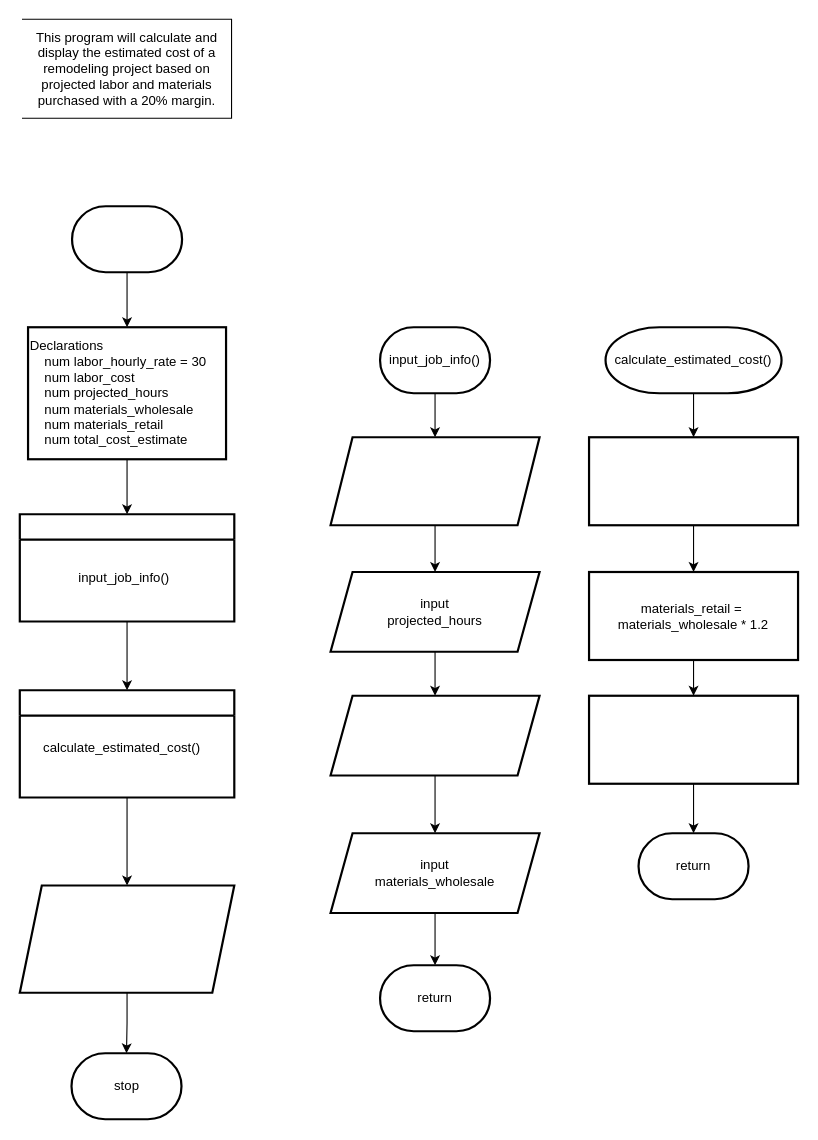
Image size: 818x1140. Some labels were removed from this diagram. Each missing label, with the centre of its shape:
labor_cost = labor_hourly_rate * projected_hours: [693,481]
output "Estimated remodeling cost: $" + total_cost_estimate: [126,938]
output "How many hours is this project expected to take?": [434,481]
output "What will the wholesale cost of building materials be?": [434,735]
start: [126,239]
total_cost_estimate = labor_cost + materials_retail: [693,739]
